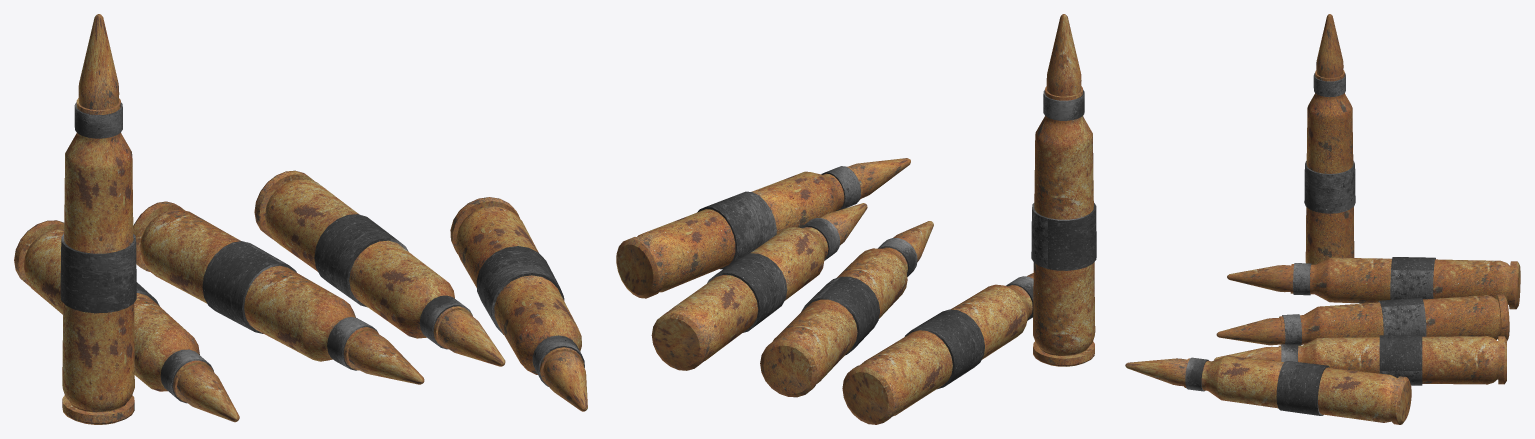
Rendered from objBullets.obj.
3 views of the same model, side by side, from view 1: azimuth 30°, elevation 25°; view 2: azimuth 150°, elevation 25°; view 3: azimuth 270°, elevation 25° (orthographic). The views are drawn at different scales.
Parts seen in each view (by area): view 1: Bullet, Bullet2, Bullet1, Bullet4, Bullet3; view 2: Bullet, Bullet4, Bullet1, Bullet3, Bullet2; view 3: Bullet4, Bullet3, Bullet, Bullet2, Bullet1.
Part boxes in pixels (x1,y1,x2,y2): Bullet: (60, 14, 136, 424); Bullet2: (133, 201, 424, 384); Bullet1: (254, 170, 505, 366); Bullet4: (450, 197, 587, 411); Bullet3: (14, 220, 239, 422); Bullet: (1031, 14, 1096, 366); Bullet4: (616, 158, 910, 298); Bullet1: (651, 203, 867, 370); Bullet3: (842, 273, 1033, 424); Bullet2: (760, 221, 933, 397); Bullet4: (1125, 355, 1411, 424); Bullet3: (1227, 257, 1520, 309); Bullet: (1304, 14, 1355, 264); Bullet2: (1216, 294, 1509, 345); Bullet1: (1214, 335, 1506, 385).
Bounding box in the file's own units: 35.92 × 27.07 × 36.48.
2 materials, 2 textured.
